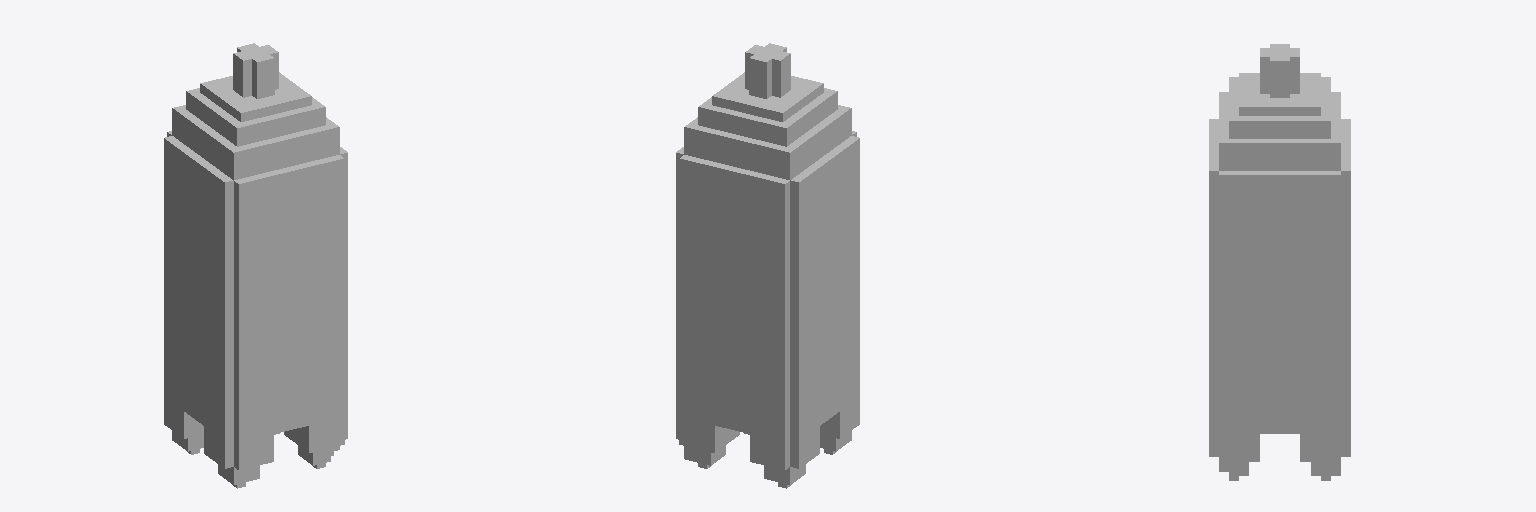
The model's file is soda.obj.
3 renders of one model, left to right at view 1: azimuth 30°, elevation 25°; view 2: azimuth 150°, elevation 25°; view 3: azimuth 270°, elevation 25°, orthographic.
Visible parts, largest first — view 1: soda; view 2: soda; view 3: soda.
Boxes of the visible parts, x1=… form: soda: x1=164, y1=43, x2=347, y2=488; soda: x1=676, y1=43, x2=859, y2=488; soda: x1=1209, y1=44, x2=1350, y2=480.
Size of the model in its own units: 14 by 44 by 14.